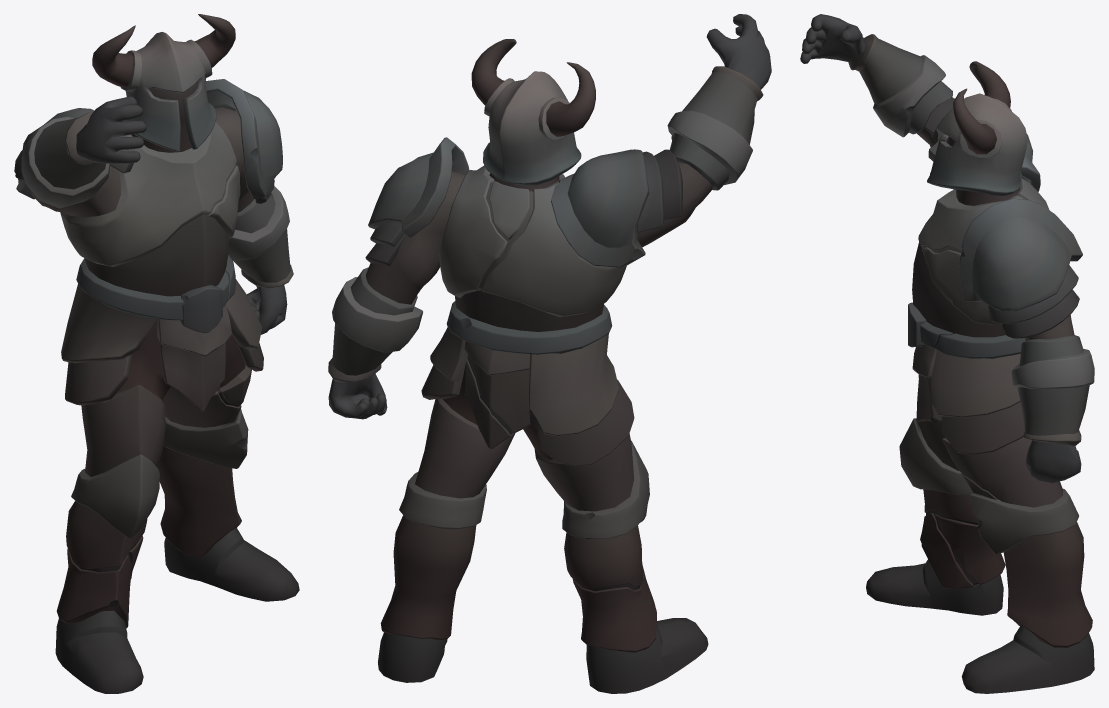
Rendered from inferno-statue-knight-002.glb.
The picture shows the model from 3 angles, left to right: view 1: azimuth 30°, elevation 25°; view 2: azimuth 150°, elevation 25°; view 3: azimuth 270°, elevation 25°; orthographic projection. The views are drawn at different scales.
Parts seen in each view (by area): view 1: StatueKnight_002; view 2: StatueKnight_002; view 3: StatueKnight_002.
Part boxes in pixels (bbox=[...]): StatueKnight_002: bbox=[14, 14, 299, 693]; StatueKnight_002: bbox=[328, 14, 771, 693]; StatueKnight_002: bbox=[800, 14, 1094, 693].
Size of the model in its own units: 21.51 by 37.66 by 17.61.
1 material, 1 textured.
